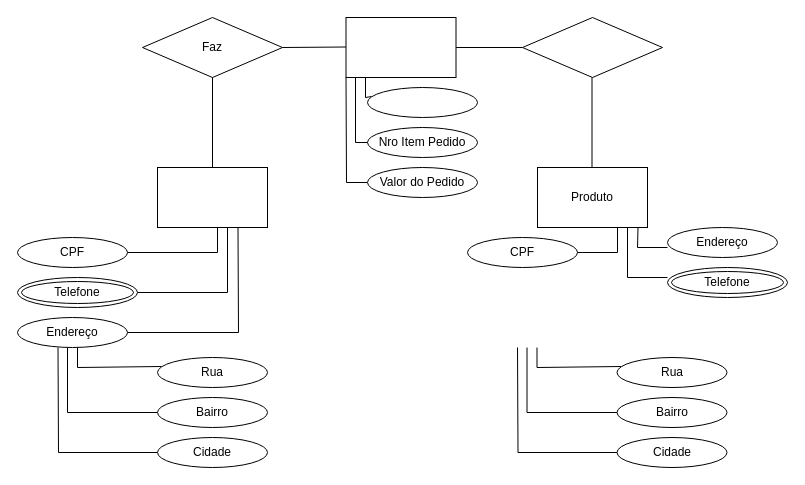
This 805x485 diagram has some shape labels left out. The centre of each missing label's shape, as x and y in pixels:
"Cliente" belongs at point 212,197.
"Nro Pedido" belongs at point 422,102.
"Pedido" belongs at point 400,47.
"Possui" belongs at point 592,47.
